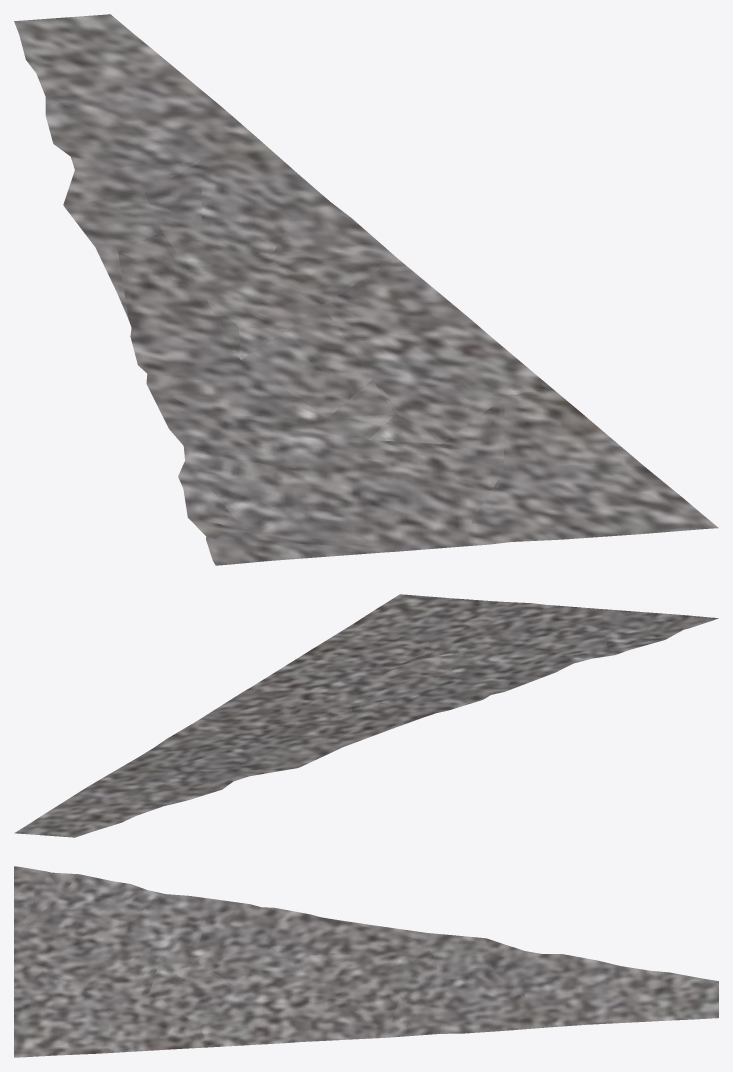
3 views of the same model, one above another, from view 1: azimuth 30°, elevation 25°; view 2: azimuth 150°, elevation 25°; view 3: azimuth 270°, elevation 25° (orthographic). The views are drawn at different scales.
Size of the model in its own units: 0.3998 by 0.0647 by 0.8373.
1 material, 1 textured.
